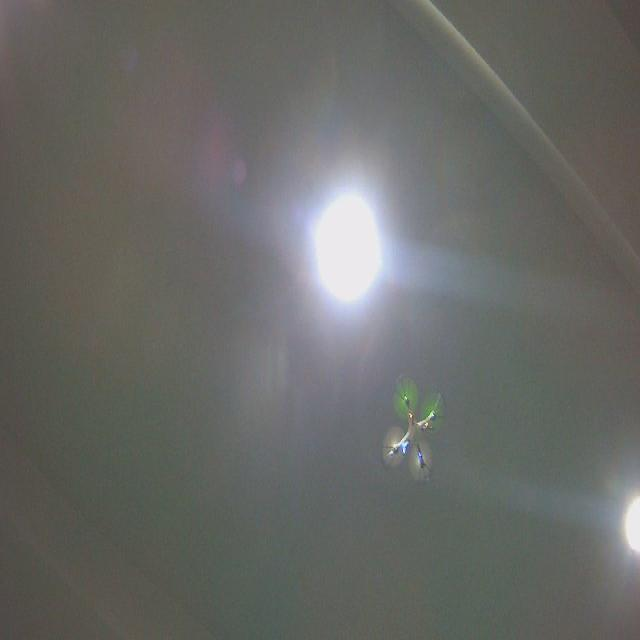drone: (378, 370, 450, 490)
